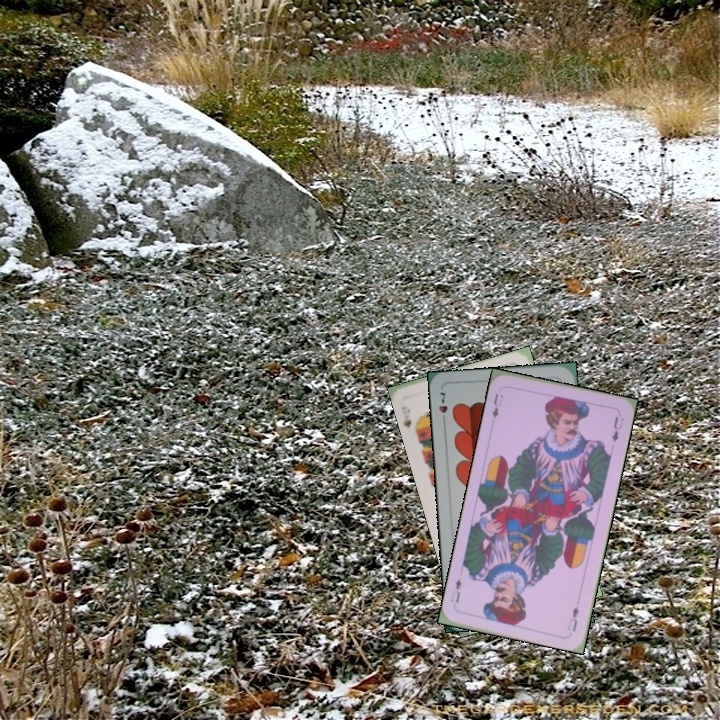EU: (488, 389, 506, 421), (563, 602, 581, 634)
H7: (435, 388, 450, 427)
S9: (400, 410, 421, 437)
